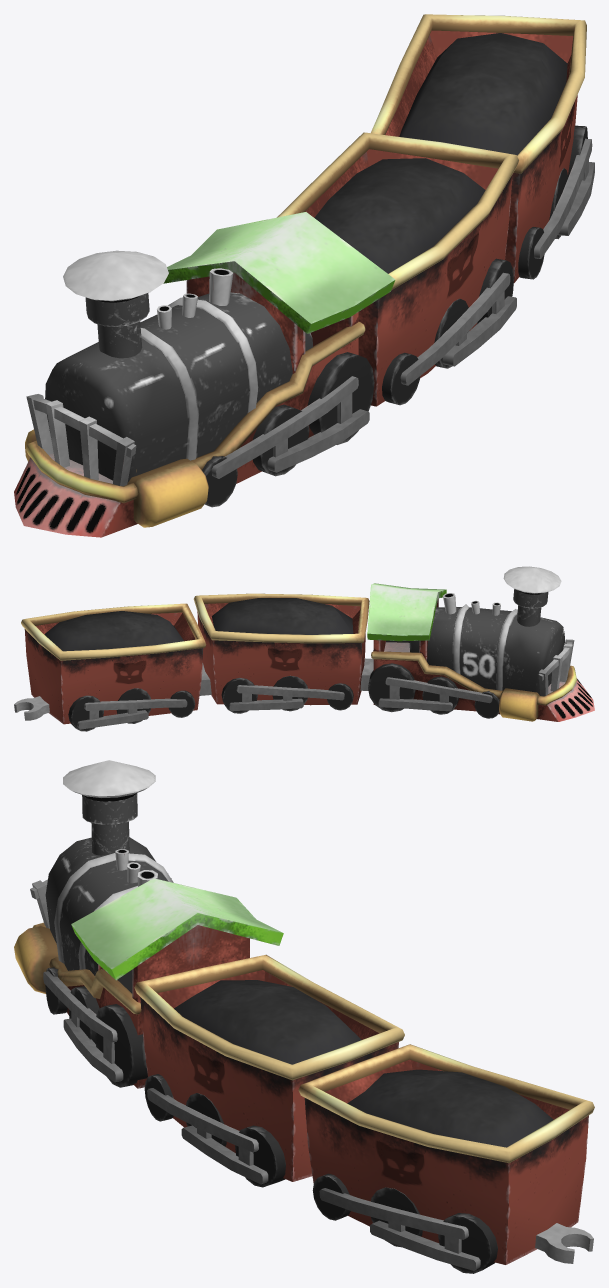
The model's file is xmas_train.fbx.
3 views of the same model, one above another, from view 1: azimuth 30°, elevation 25°; view 2: azimuth 150°, elevation 25°; view 3: azimuth 270°, elevation 25° (orthographic). The views are drawn at different scales.
Visible parts, largest first — view 1: Cube.002; view 2: Cube.002; view 3: Cube.002.
Boxes of the visible parts, x1,y1,x2,y2 form: Cube.002: (14,14,594,537); Cube.002: (14,566,594,731); Cube.002: (14,760,594,1273).
Size of what is drawn, in the model's own units: 107 by 31.5 by 75.17.
